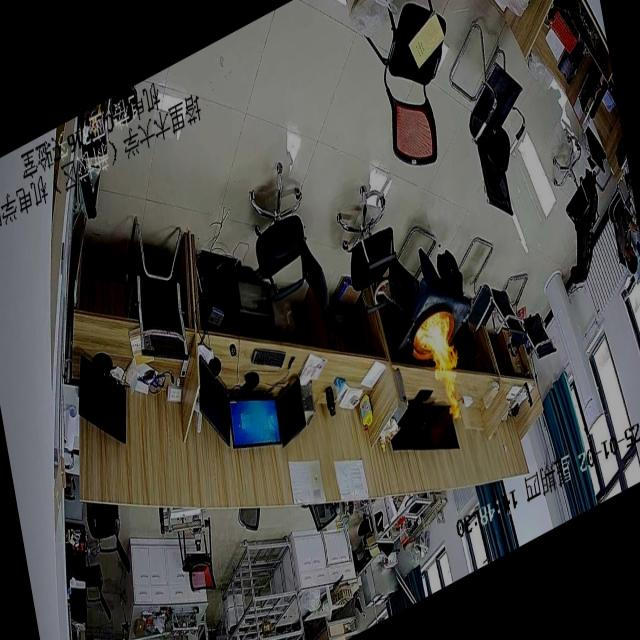fire: (404, 288, 478, 443)
